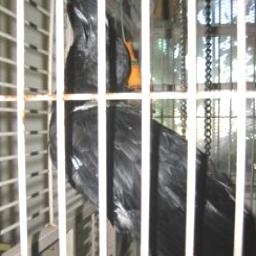Crow: (49, 0, 256, 256)
